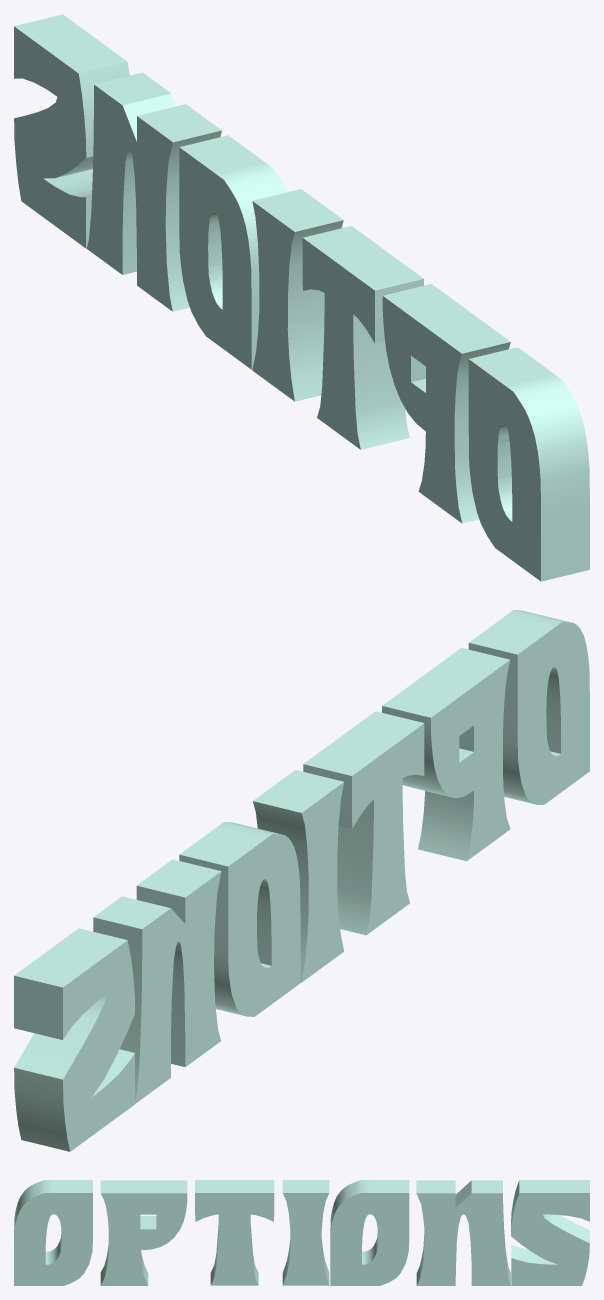
The model's file is Options(Button).fbx.
3 views of the same model, one above another, from view 1: azimuth 30°, elevation 25°; view 2: azimuth 150°, elevation 25°; view 3: azimuth 270°, elevation 25° (orthographic). The views are drawn at different scales.
Parts seen in each view (by area): view 1: Options; view 2: Options; view 3: Options.
Part boxes in pixels (x1,y1,x2,y2): Options: (14,14,589,581); Options: (14,610,589,1151); Options: (14,1180,589,1285).
Bounding box in the file's own units: 50.59 × 166 × 934.
